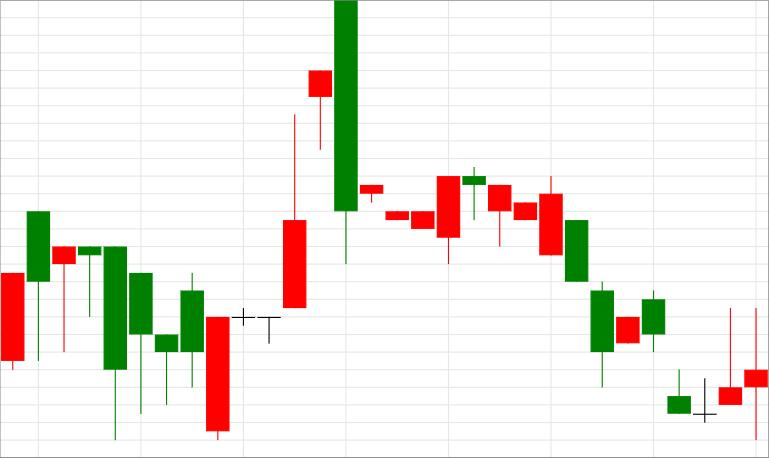bearish_engulfing_fall: (206, 0, 358, 440)
